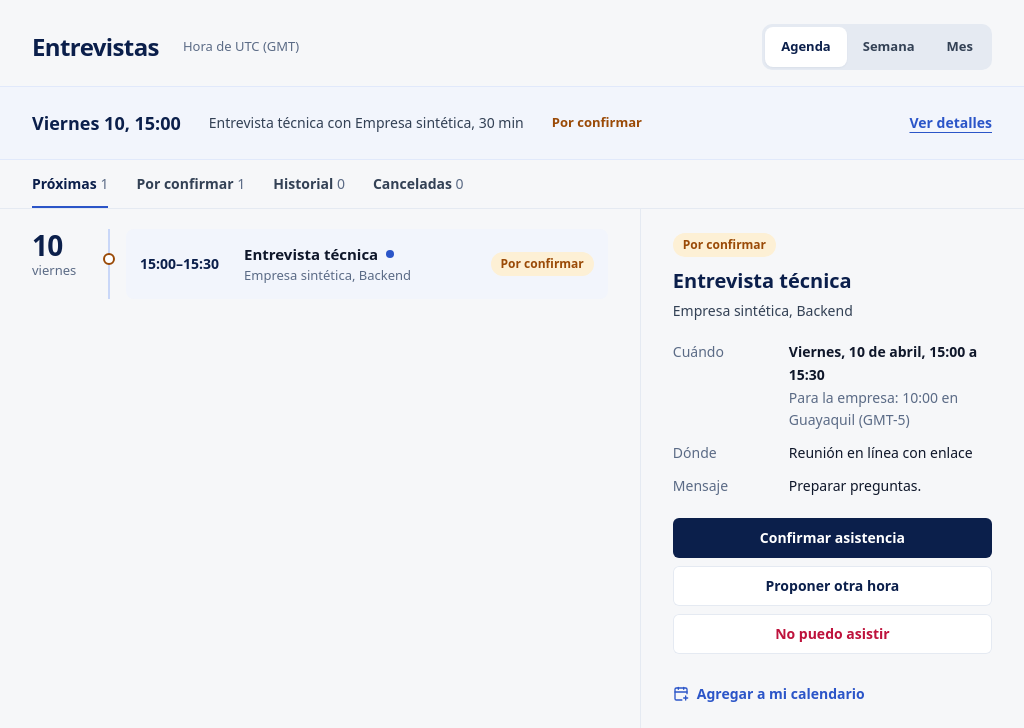
Test: entrevistas del candidato › confirma con la versión vista y no ofrece acciones de la empresa
Click the button "Confirmar asistencia" at (832, 538), box [673,518,992,558]
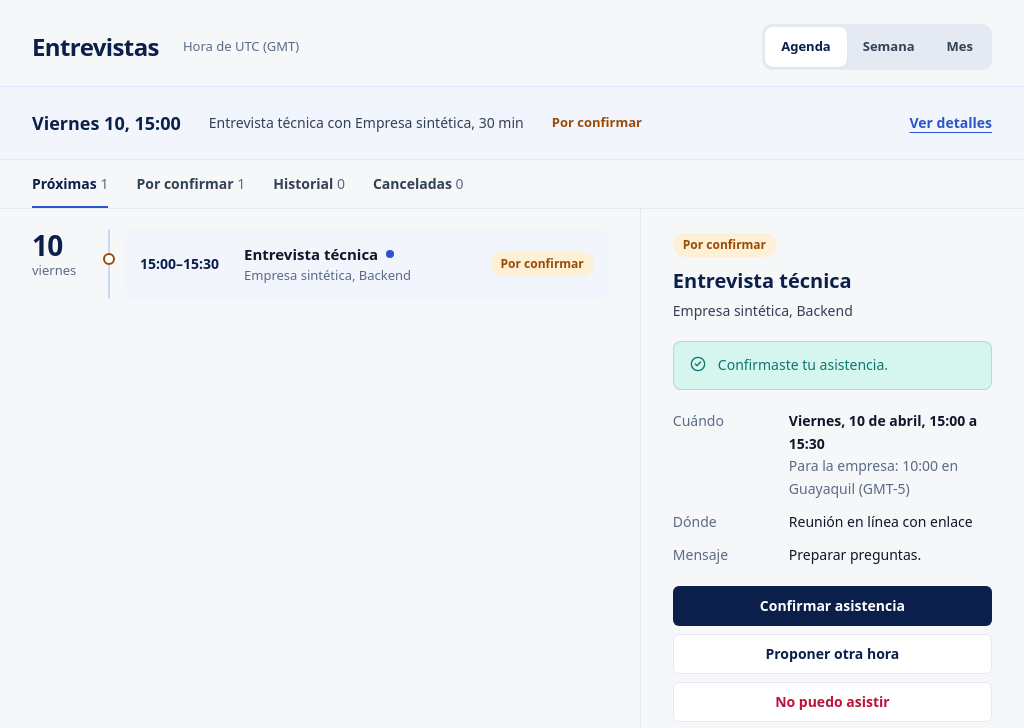
Now the text "Confirmaste tu asistencia." is shown, box [718,354,888,377]
